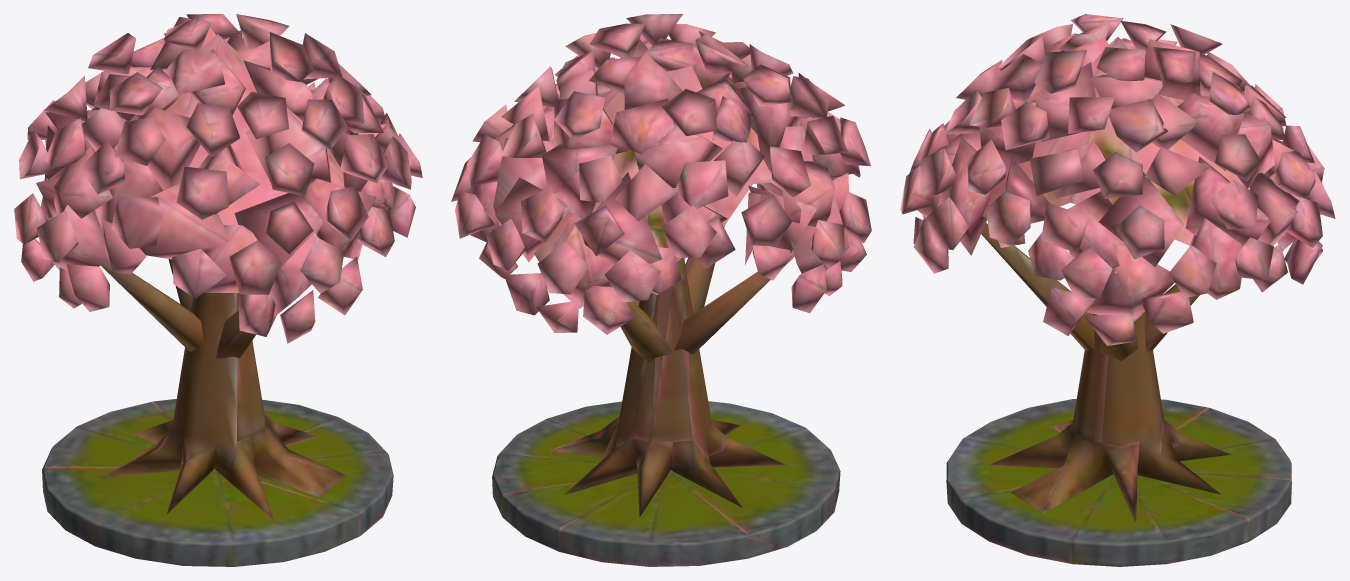
The model's file is cherry.glb.
3 renders of one model, left to right at view 1: azimuth 30°, elevation 25°; view 2: azimuth 150°, elevation 25°; view 3: azimuth 270°, elevation 25°, orthographic.
Visible parts, largest first — view 1: geometry_0; view 2: geometry_0; view 3: geometry_0.
Boxes of the visible parts, x1,y1,x2,y2 form: geometry_0: (14, 14, 422, 566); geometry_0: (451, 14, 871, 566); geometry_0: (900, 14, 1335, 566).
Bounding box in the file's own units: 0.842 × 1 × 0.855.
1 material, 1 textured.
